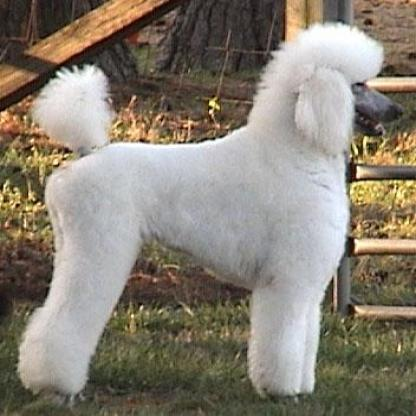standard_poodle: (12, 20, 406, 404)
